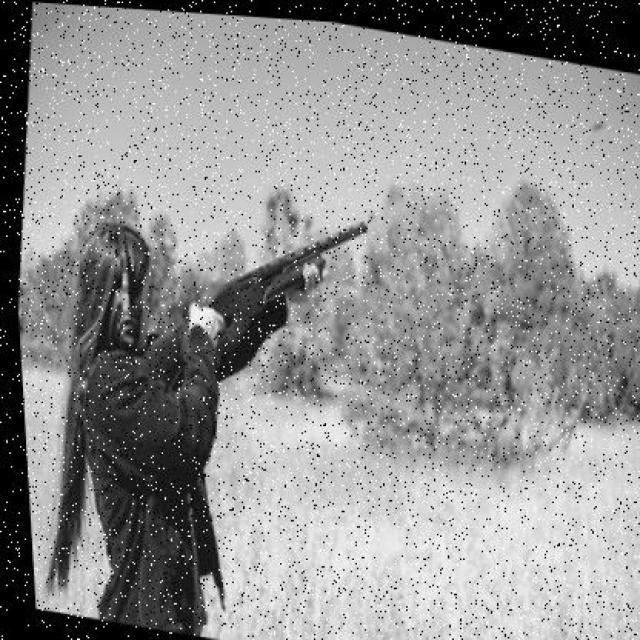weapon: (141, 223, 371, 389)
